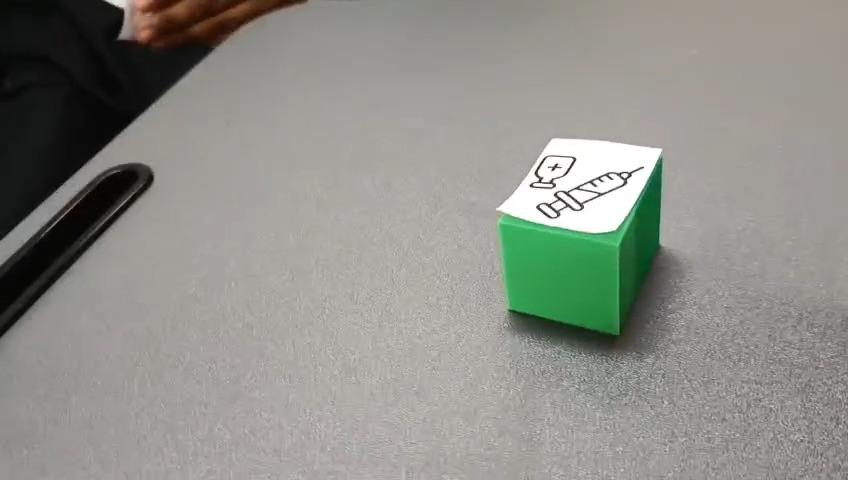antiseptic cream: (494, 135, 664, 336)
